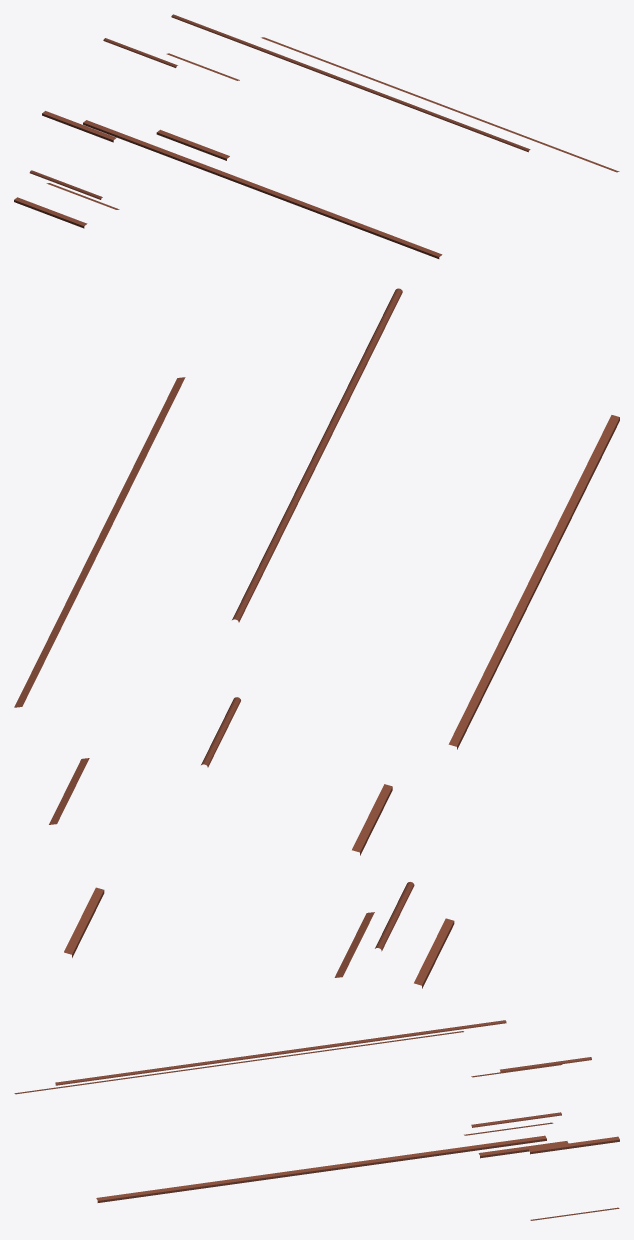
3 views of the same model, one above another, from view 1: azimuth 30°, elevation 25°; view 2: azimuth 150°, elevation 25°; view 3: azimuth 270°, elevation 25° (orthographic). The views are drawn at different scales.
Parts seen in each view (by area): view 1: detail; view 2: detail; view 3: detail.
Part boxes in pixels (bbox=[...]): detail: bbox=[14, 14, 619, 258]; detail: bbox=[14, 288, 619, 988]; detail: bbox=[14, 1020, 619, 1220].
Size of the model in its own units: 27.13 by 11.94 by 38.25.
